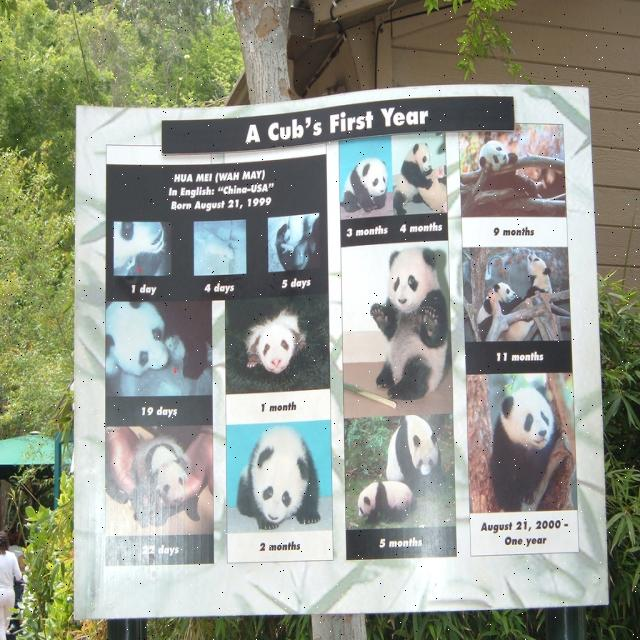panda: (368, 247, 444, 403), (482, 386, 565, 511), (235, 420, 319, 533), (100, 301, 168, 379), (476, 132, 543, 197), (383, 417, 441, 489), (394, 138, 433, 216), (341, 152, 388, 214), (353, 477, 412, 521)
